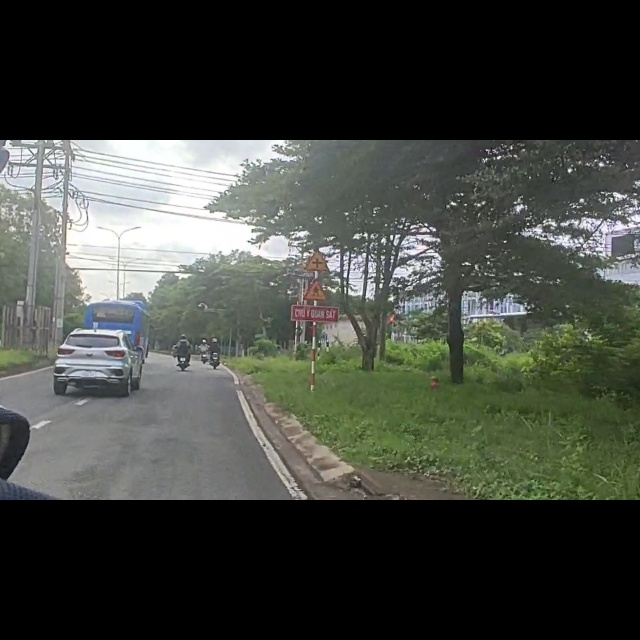bien_nguy_hiem: (300, 245, 331, 286), (303, 194, 333, 236)
